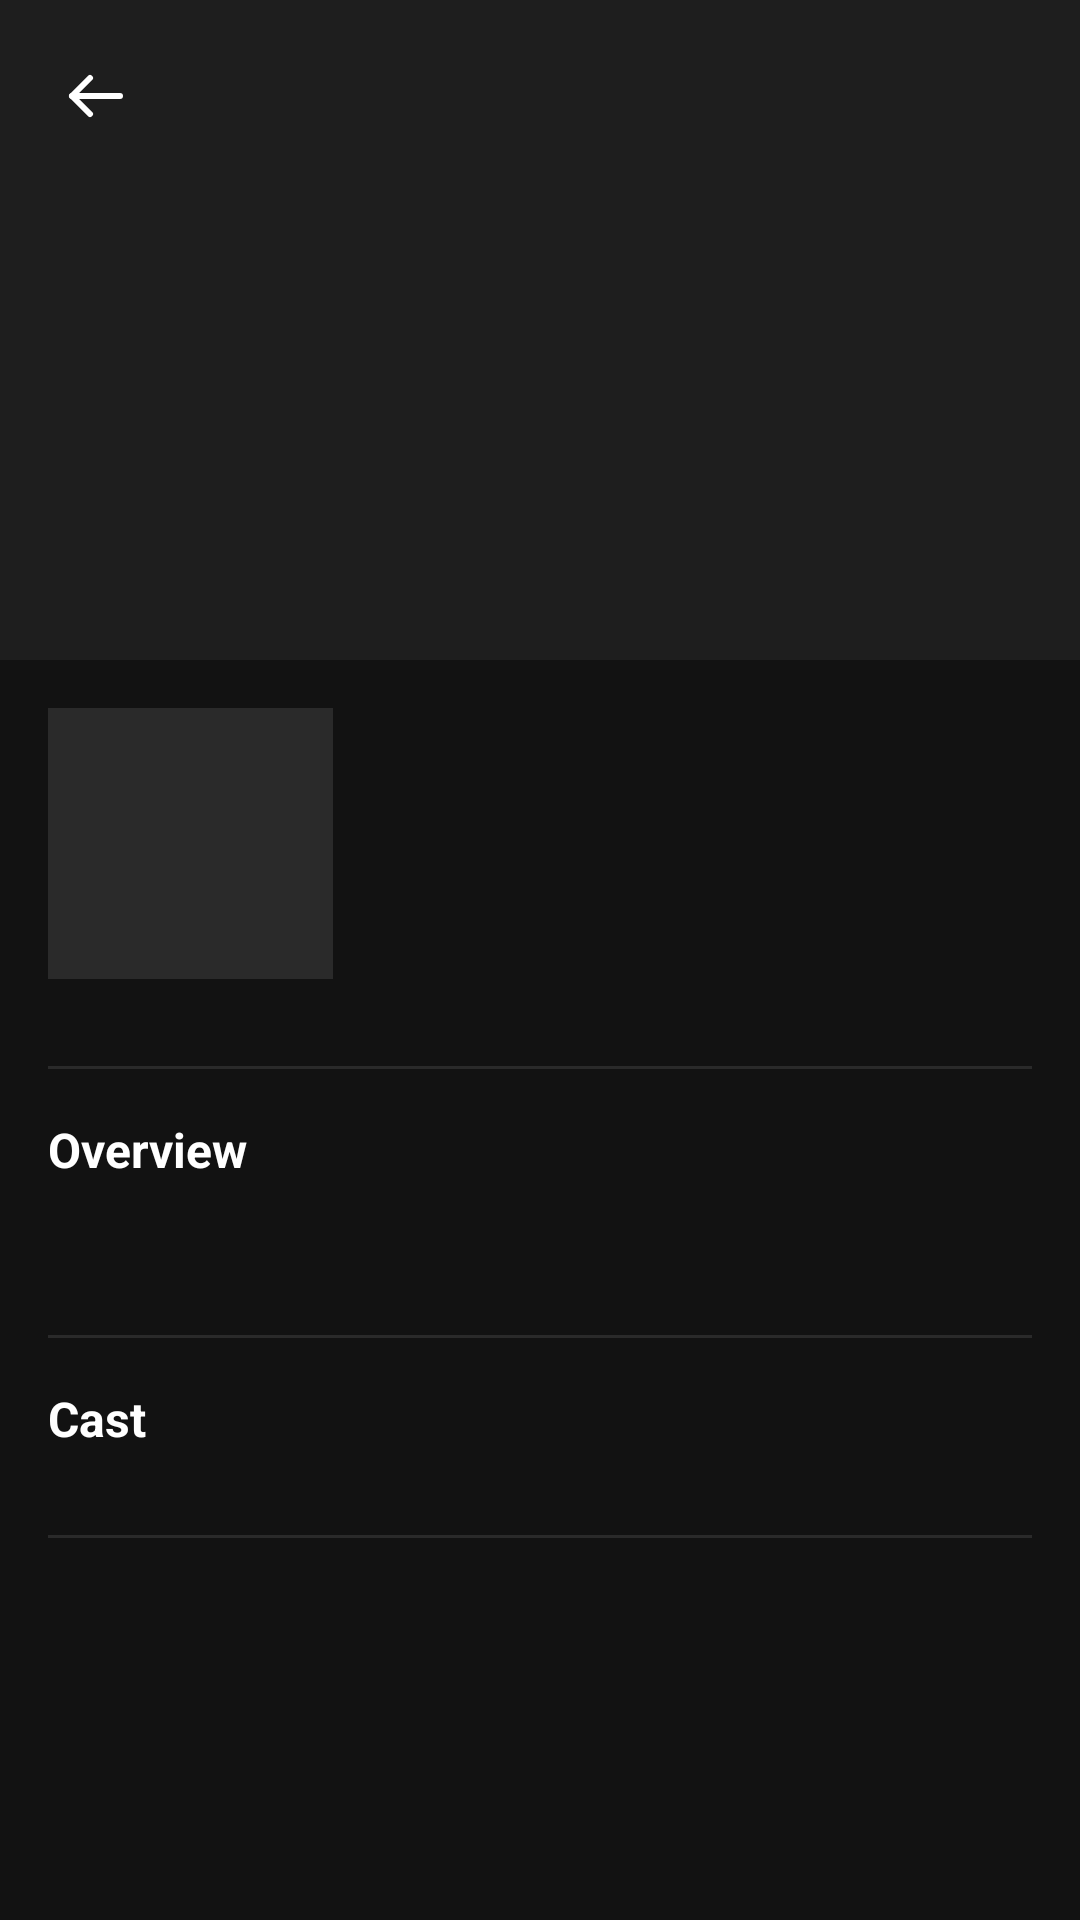

Screen size 1080x1920. Icon name, then its center in pixels as (x,y):
Back: (96,96)
